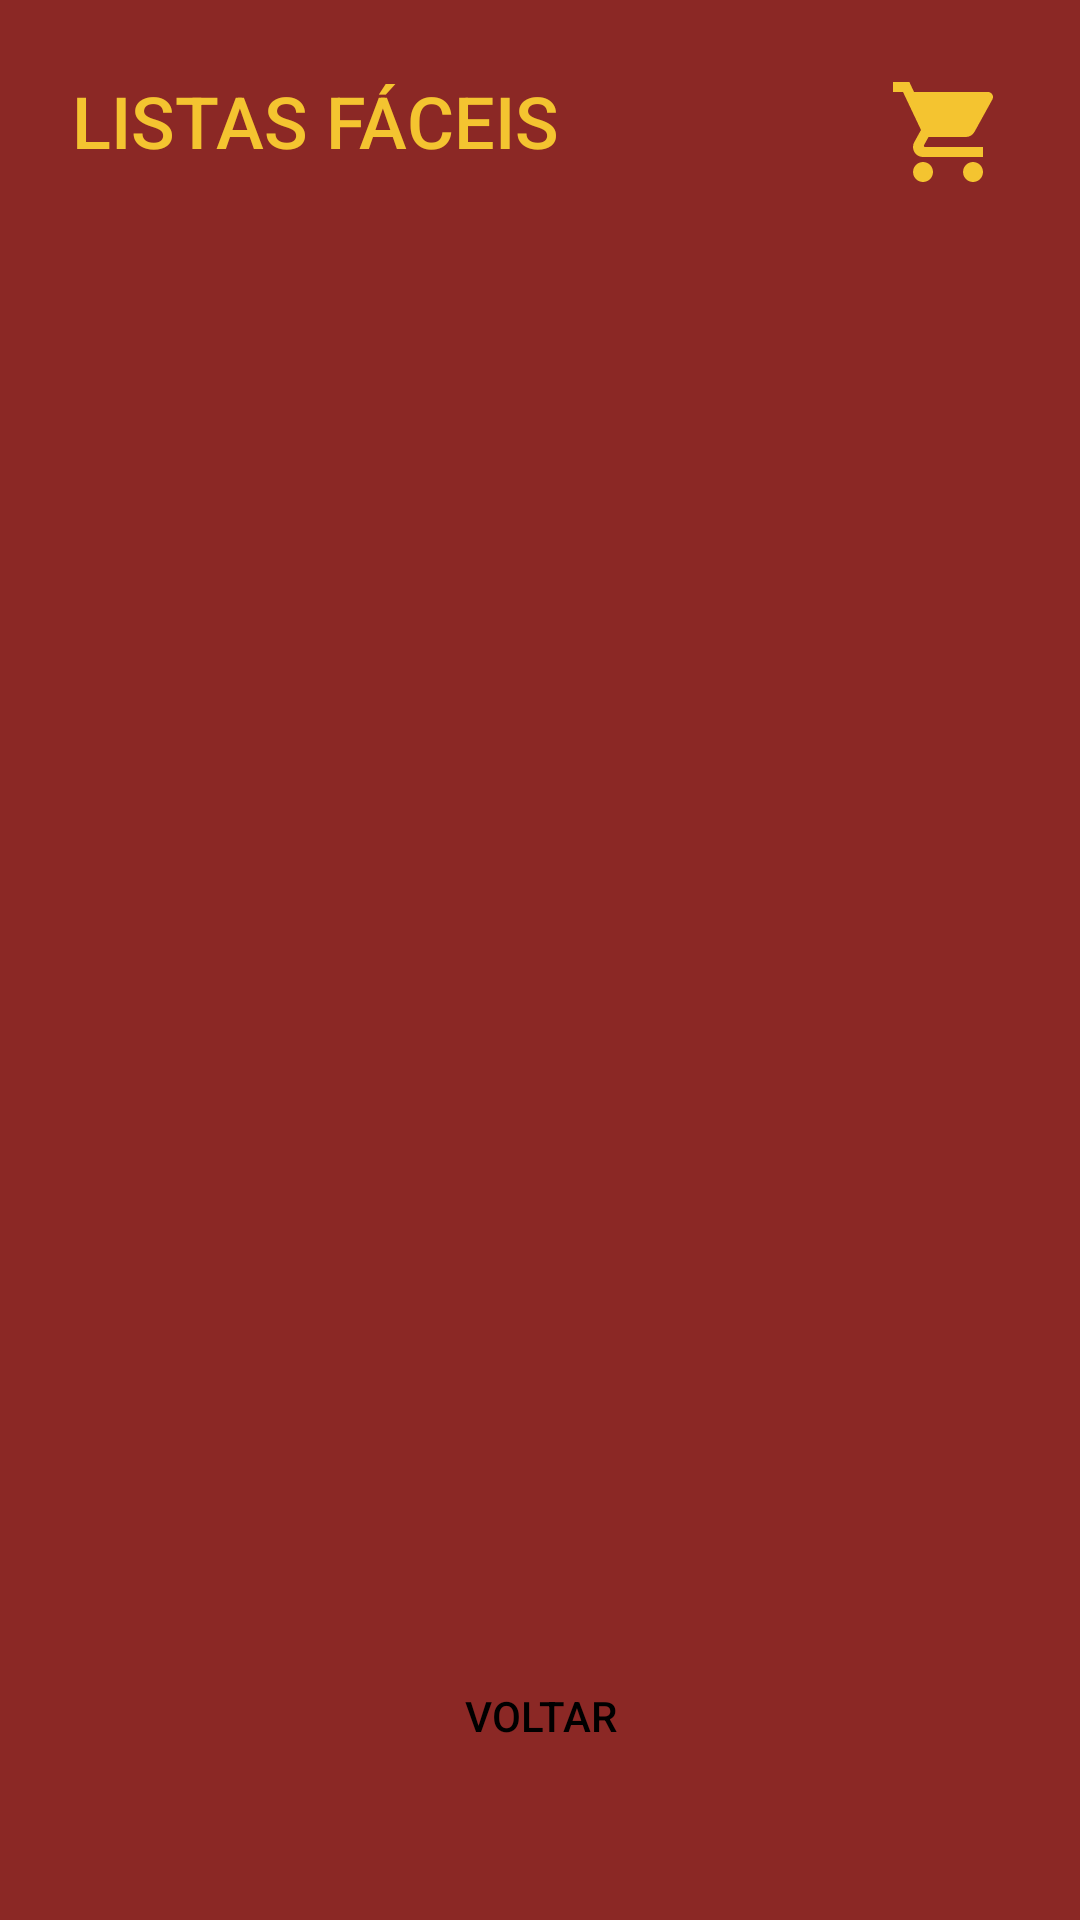

Where to tap for icons on this 1080*1920 app screen, as (x,y):
cart: (943,132)
